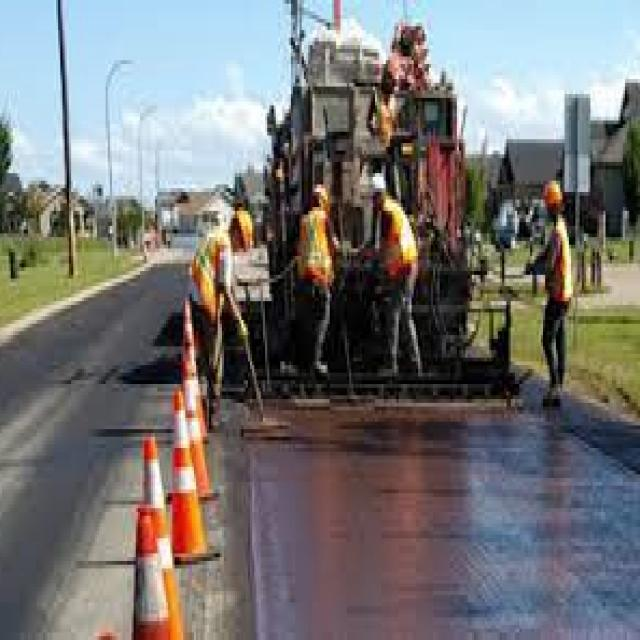cone: (143, 436, 190, 638), (170, 386, 223, 563), (177, 358, 221, 496), (134, 506, 178, 640), (174, 323, 208, 443), (180, 289, 199, 378)
